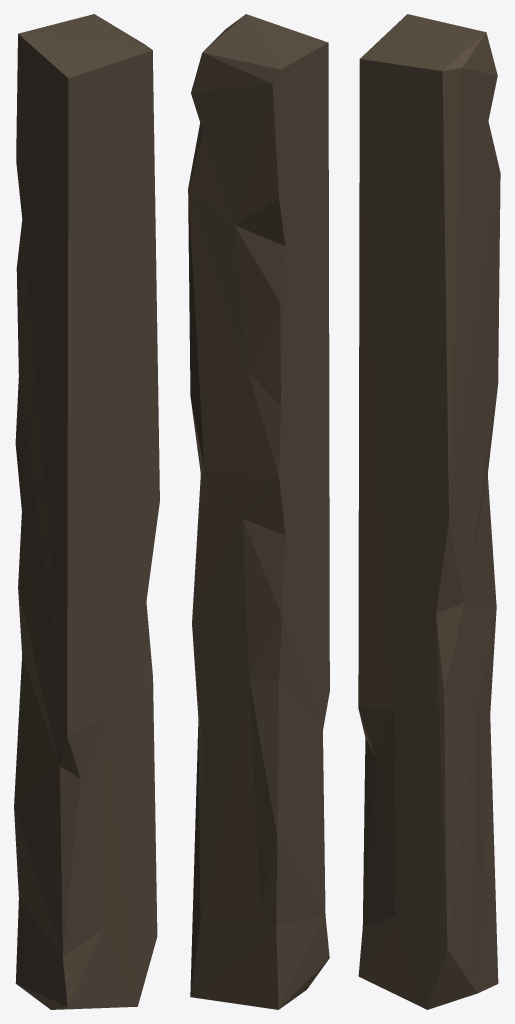
File: SM_wooden_rod_05.fbx
3 views of the same model, side by side, from view 1: azimuth 30°, elevation 25°; view 2: azimuth 150°, elevation 25°; view 3: azimuth 330°, elevation 25° (orthographic).
Parts seen in each view (by area): view 1: wooden_rod_05; view 2: wooden_rod_05; view 3: wooden_rod_05.
Part boxes in pixels (x1=…): wooden_rod_05: x1=14, y1=14, x2=159, y2=1009; wooden_rod_05: x1=188, y1=14, x2=329, y2=1009; wooden_rod_05: x1=358, y1=14, x2=500, y2=1009.
Bounding box in the file's own units: 30.2 × 300 × 30.64.
